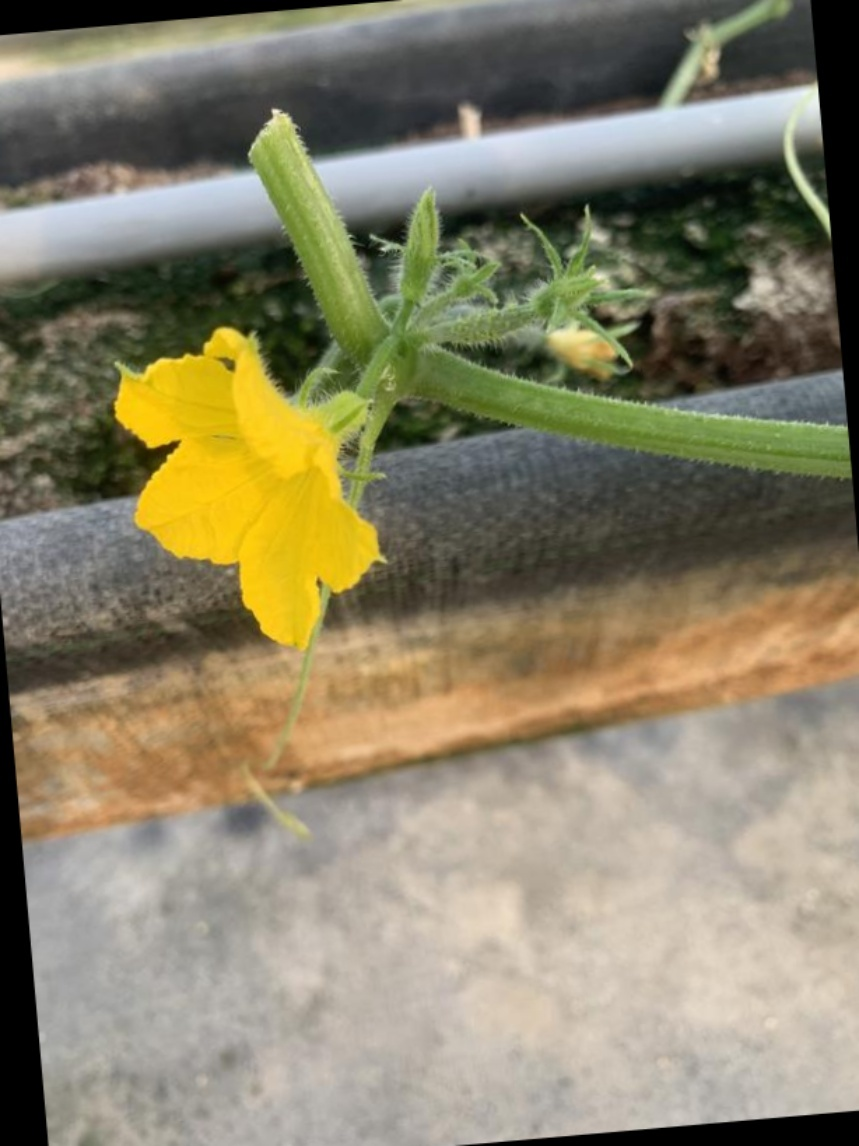flowering: (93, 324, 453, 653)
